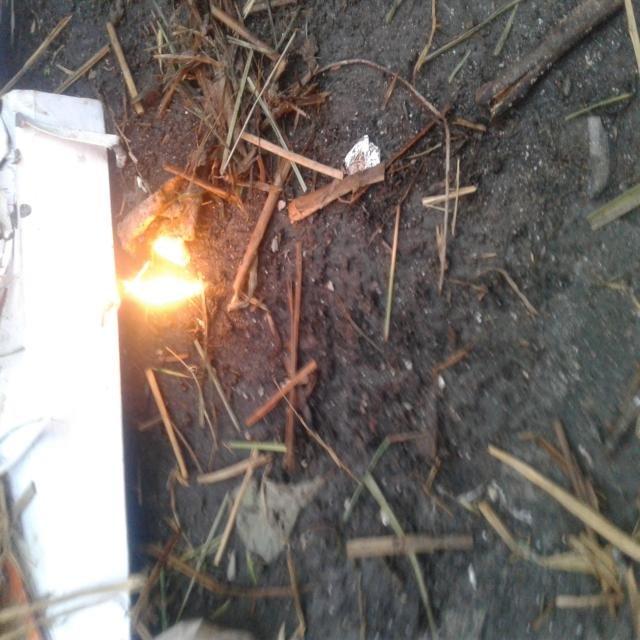Fire: (160, 144, 368, 324)
